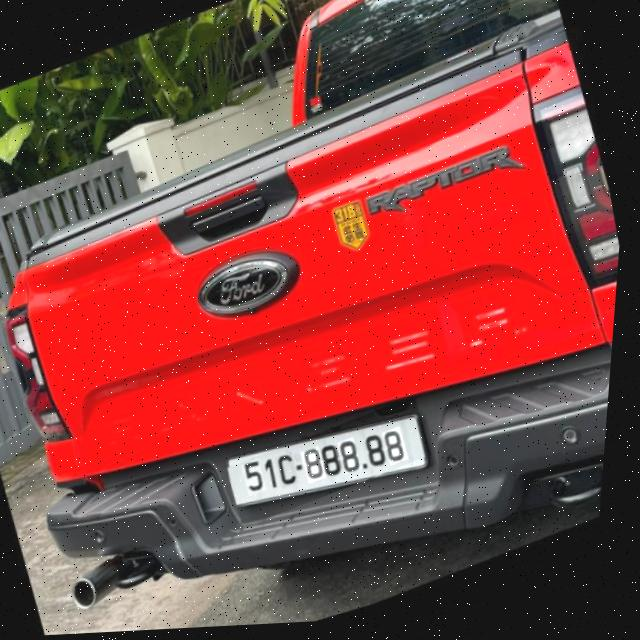car: (0, 0, 640, 640)
plate: (220, 401, 434, 522)
